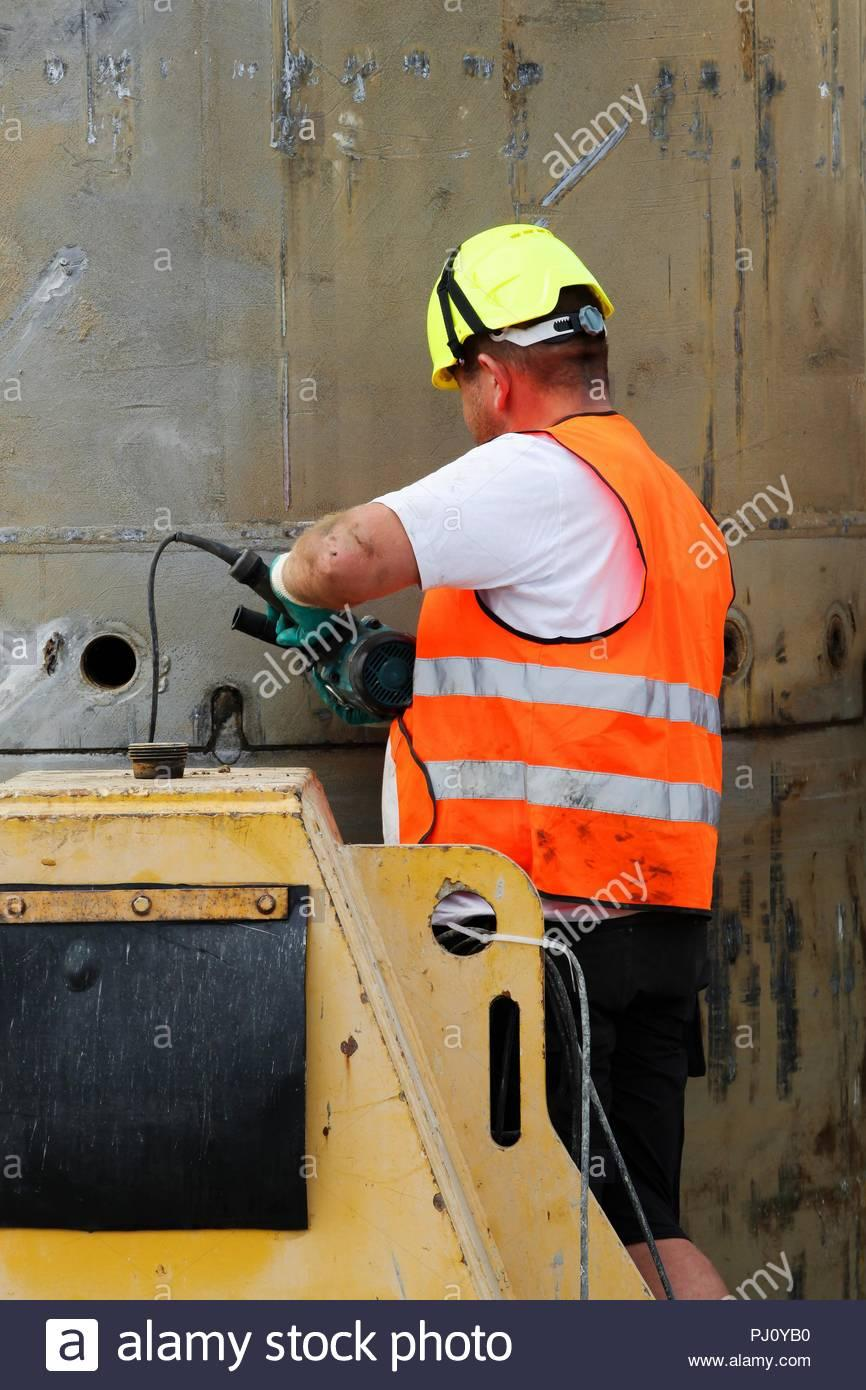helmet: (423, 222, 621, 396)
